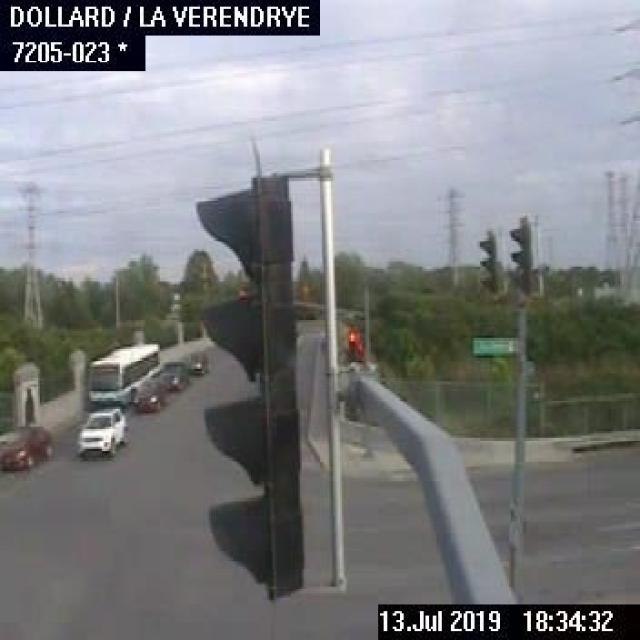bus: (85, 341, 158, 404)
vehicle: (0, 420, 56, 475), (73, 405, 123, 458), (132, 378, 164, 411), (159, 361, 185, 389), (186, 348, 208, 377)
